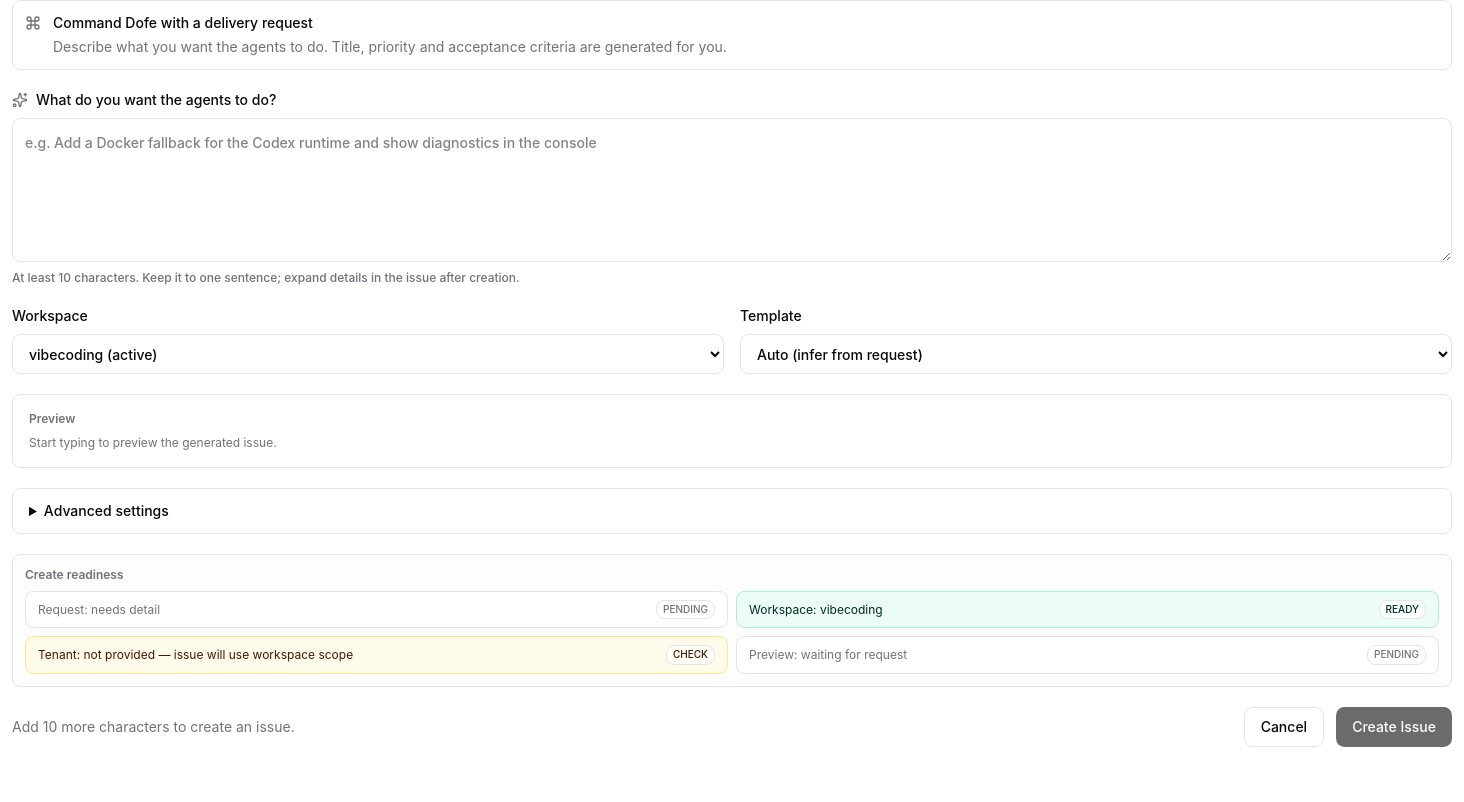
it: SimpleLoopIssueForm (0622 · B5 simple-mode intake) › binds bugfix templates to recovery mode and regression policy in preview
In the text box with placeholder "Add a Docker fallback": (732, 190) left=12, top=118, right=1452, bottom=262, type "Fix checkout crash after payment callback"
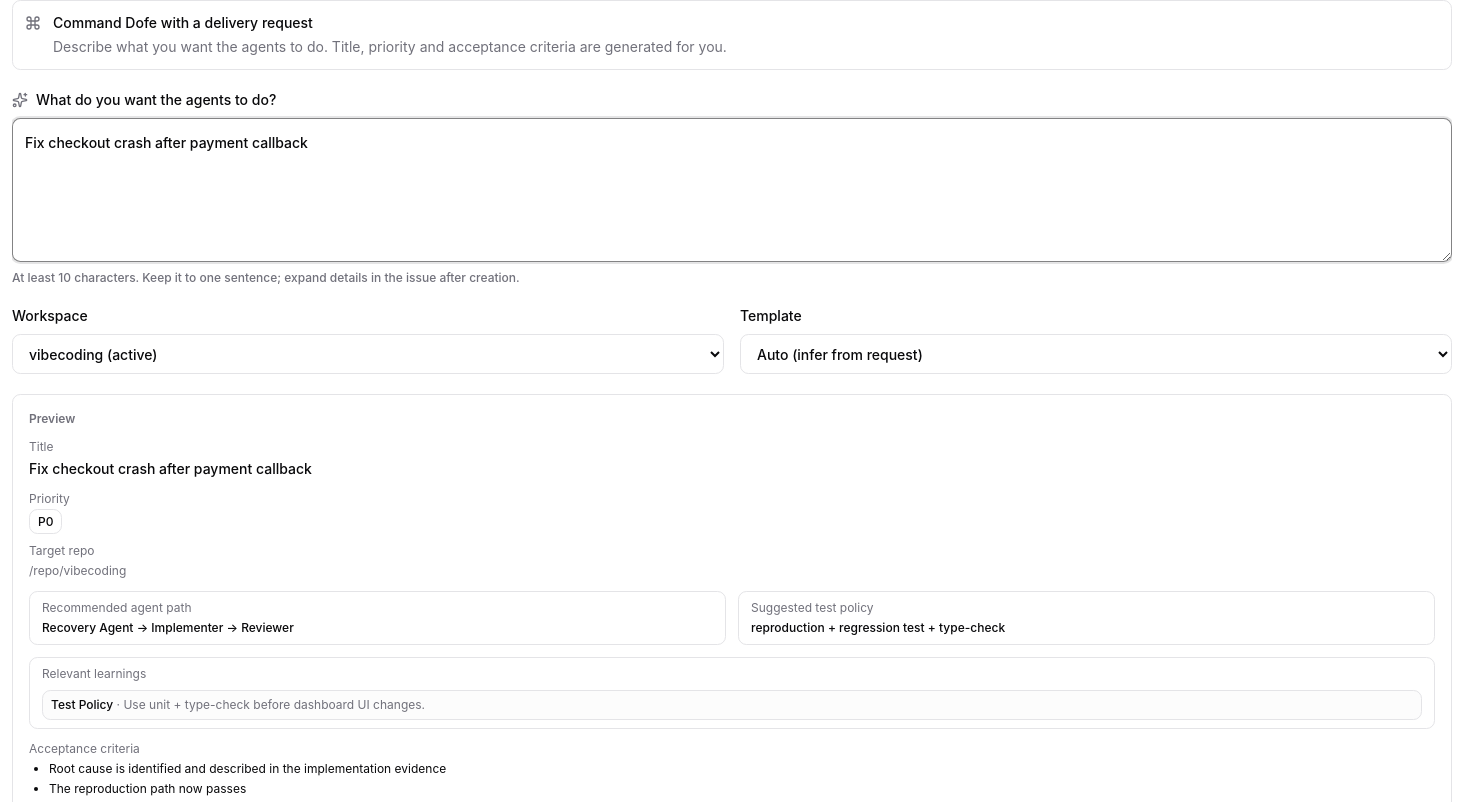
Expected: the text "P0" is shown, left=29, top=509, right=62, bottom=534
Expected: the text "Recovery Agent → Implementer → Reviewer" is shown, left=42, top=620, right=294, bottom=635
Expected: the text "reproduction + regression test + type-check" is shown, left=751, top=620, right=1005, bottom=635
